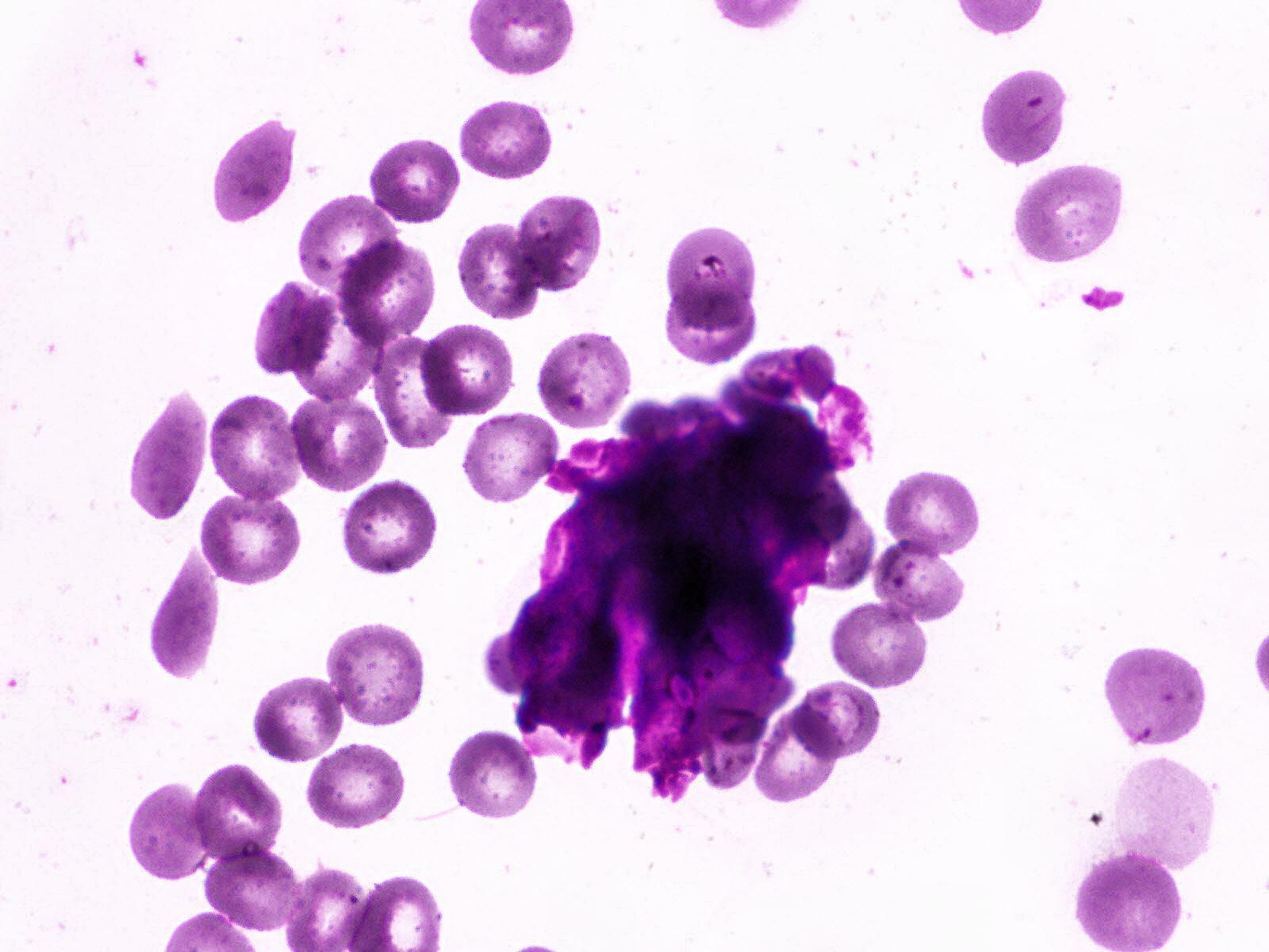Uninfected: (1098, 640, 1210, 750), (339, 235, 436, 354), (1078, 843, 1183, 951), (324, 622, 430, 727), (289, 293, 386, 403), (1014, 164, 1118, 264), (298, 193, 396, 298), (373, 336, 462, 451), (148, 541, 220, 680), (336, 481, 438, 579), (211, 396, 304, 502), (364, 133, 465, 228), (128, 392, 201, 523), (292, 394, 390, 491), (539, 332, 633, 432), (420, 322, 517, 418), (199, 492, 298, 585), (668, 226, 756, 330), (460, 414, 559, 505), (880, 470, 980, 560), (194, 762, 283, 862), (302, 747, 406, 832), (753, 704, 842, 803), (980, 71, 1068, 168), (128, 782, 215, 879), (515, 196, 602, 293), (249, 676, 347, 762), (868, 539, 965, 625), (214, 117, 294, 221), (458, 98, 557, 182), (203, 850, 305, 931), (664, 278, 757, 366), (447, 731, 538, 820), (252, 280, 335, 377), (830, 602, 925, 685), (460, 223, 542, 319), (792, 684, 880, 760)
